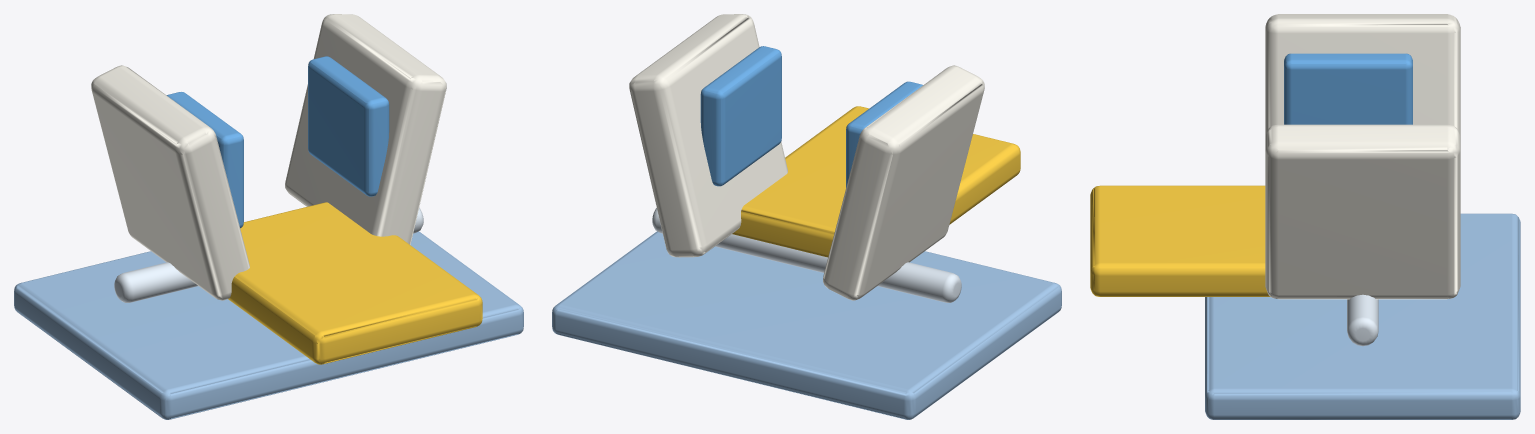
File: pcv_clipboard_transfer_clamp.glb
3 renders of one model, left to right at view 1: azimuth 30°, elevation 25°; view 2: azimuth 150°, elevation 25°; view 3: azimuth 270°, elevation 25°, orthographic. The views are drawn at different scales.
Parts seen in each view (by area): view 1: pcv_clipboard_transfer_clamp_MOBILE_JOINED; view 2: pcv_clipboard_transfer_clamp_MOBILE_JOINED; view 3: pcv_clipboard_transfer_clamp_MOBILE_JOINED.
Part boxes in pixels (x1,y1,x2,y2): pcv_clipboard_transfer_clamp_MOBILE_JOINED: (14, 14, 523, 419); pcv_clipboard_transfer_clamp_MOBILE_JOINED: (552, 14, 1061, 419); pcv_clipboard_transfer_clamp_MOBILE_JOINED: (1090, 14, 1520, 419).
Bounding box in the file's own units: 1.5 × 0.9988 × 1.5.
